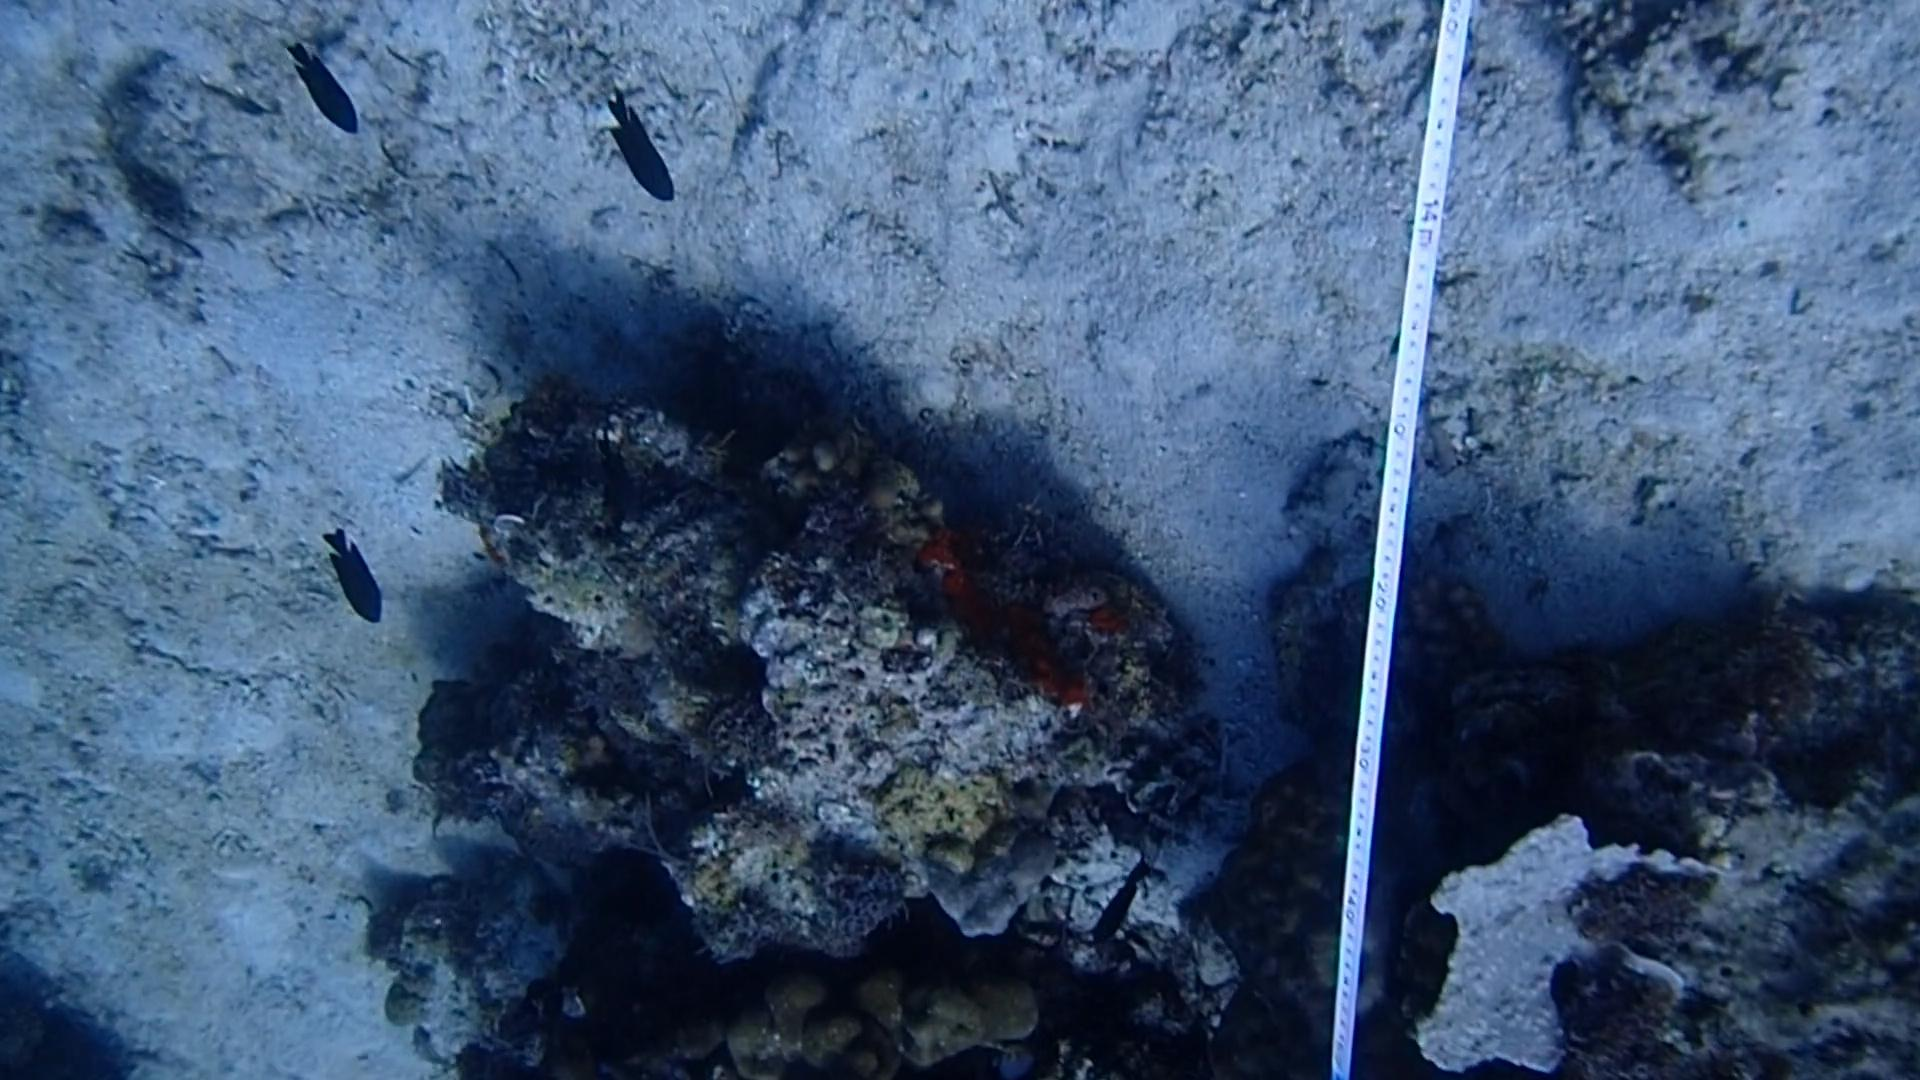Dark Fish: (301, 512, 404, 645), (589, 79, 688, 218), (282, 24, 372, 146), (1077, 855, 1171, 960)
